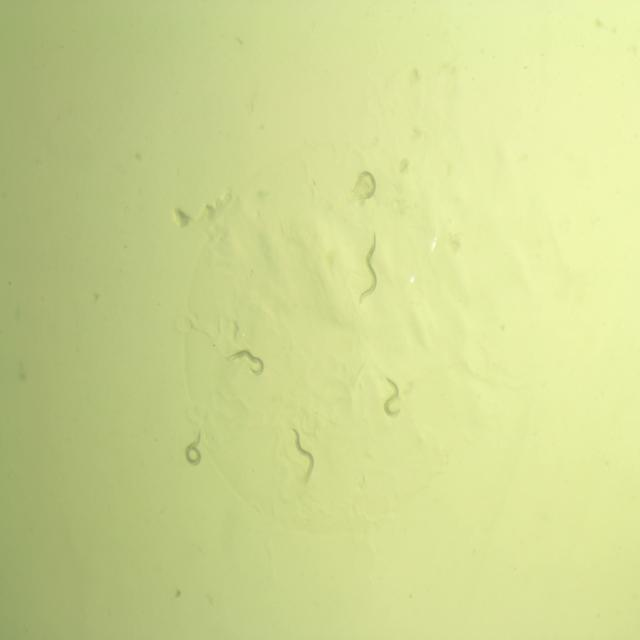worm: (353, 226, 381, 310), (290, 424, 316, 490), (224, 346, 272, 379), (379, 370, 405, 424), (179, 423, 207, 472), (351, 168, 382, 205)
